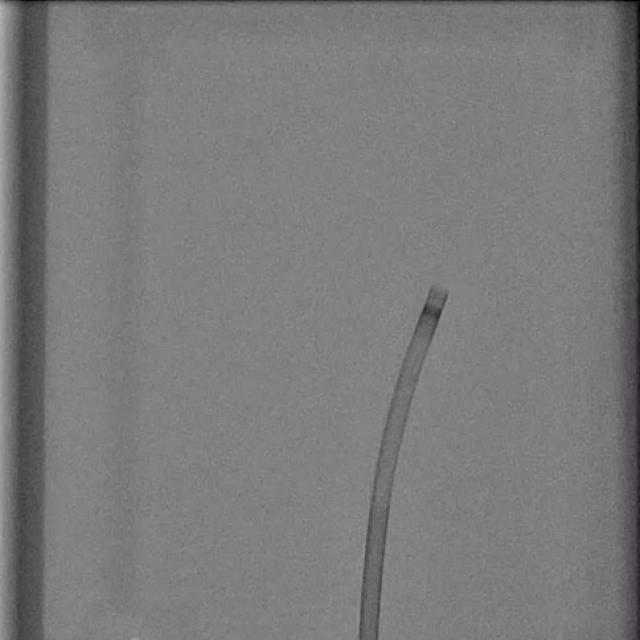bend: (371, 487, 393, 504)
entry: (359, 635, 378, 640)
marker: (421, 304, 444, 320)
tip: (430, 286, 450, 297)
